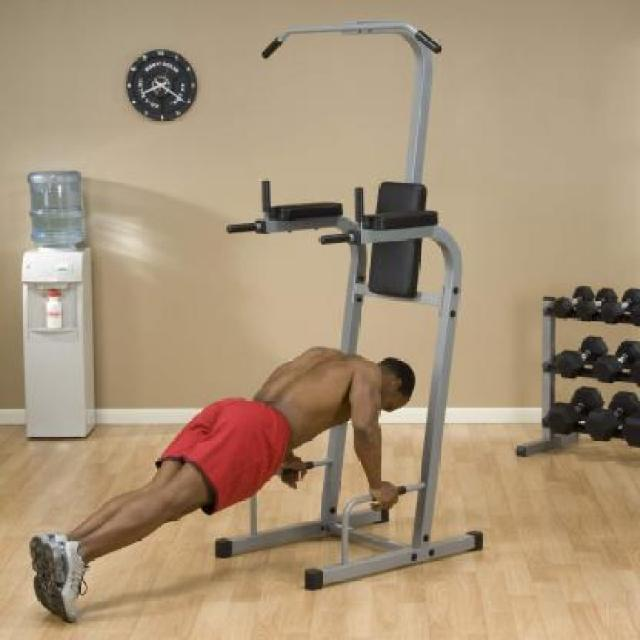chinning dipping: (218, 18, 484, 591)
